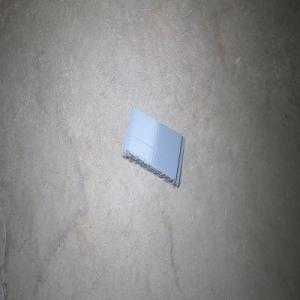PlasticPart: (121, 106, 185, 188)
